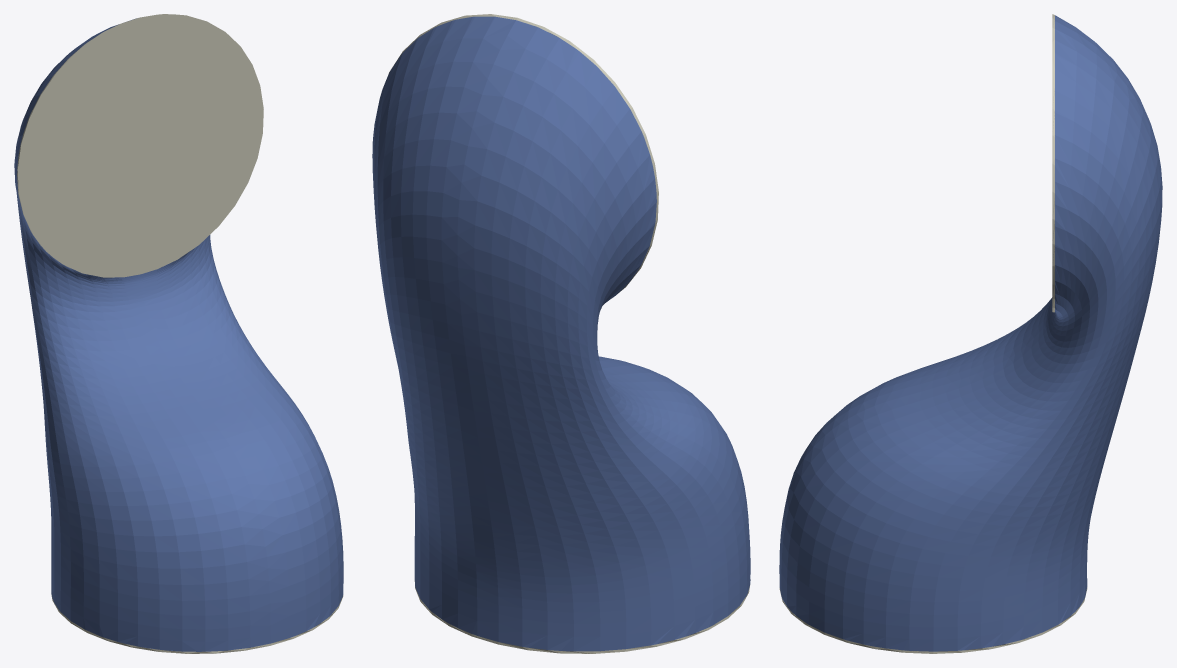
The model's file is right_arm5.dae.
The picture shows the model from 3 angles, left to right: view 1: azimuth 30°, elevation 25°; view 2: azimuth 150°, elevation 25°; view 3: azimuth 270°, elevation 25°; orthographic projection. The views are drawn at different scales.
Visible parts, largest first — view 1: left-lwr-3-link56_iv_MatrixTransform_Group__Geometry_0, left-lwr-3-link56_iv_MatrixTransform_Group__Geometry_1, left-lwr-3-link56_iv_MatrixTransform_Group__Geometry_2; view 2: left-lwr-3-link56_iv_MatrixTransform_Group__Geometry_0, left-lwr-3-link56_iv_MatrixTransform_Group__Geometry_1, left-lwr-3-link56_iv_MatrixTransform_Group__Geometry_2; view 3: left-lwr-3-link56_iv_MatrixTransform_Group__Geometry_0, left-lwr-3-link56_iv_MatrixTransform_Group__Geometry_1, left-lwr-3-link56_iv_MatrixTransform_Group__Geometry_2.
Part boxes in pixels (x1,y1,x2,y2): left-lwr-3-link56_iv_MatrixTransform_Group__Geometry_0: [14, 18, 343, 651]; left-lwr-3-link56_iv_MatrixTransform_Group__Geometry_1: [17, 14, 263, 277]; left-lwr-3-link56_iv_MatrixTransform_Group__Geometry_2: [51, 595, 343, 653]; left-lwr-3-link56_iv_MatrixTransform_Group__Geometry_0: [372, 16, 750, 651]; left-lwr-3-link56_iv_MatrixTransform_Group__Geometry_1: [388, 14, 658, 292]; left-lwr-3-link56_iv_MatrixTransform_Group__Geometry_2: [414, 581, 749, 653]; left-lwr-3-link56_iv_MatrixTransform_Group__Geometry_0: [779, 15, 1162, 651]; left-lwr-3-link56_iv_MatrixTransform_Group__Geometry_1: [1052, 14, 1054, 312]; left-lwr-3-link56_iv_MatrixTransform_Group__Geometry_2: [779, 587, 1087, 653].
Size of the model in its own units: 0.1191 by 0.1482 by 0.2395.
